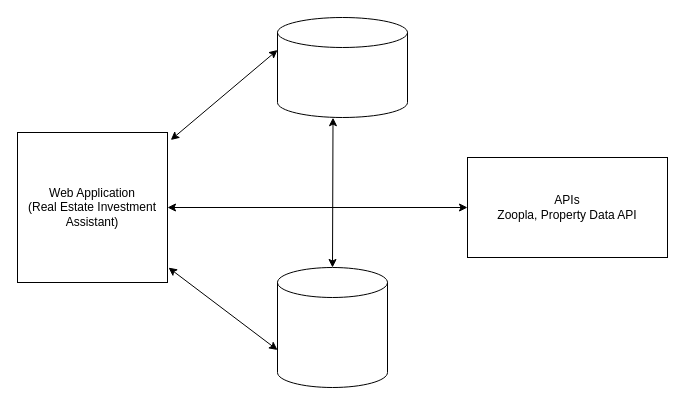
This 685x405 diagram has some shape labels left out. The shapes that lost their labels are listed below. From the top down, each one's centre as x and y in pixels, then its label:
the point at 342,67: Firebase
the point at 332,327: PostgreSQL
